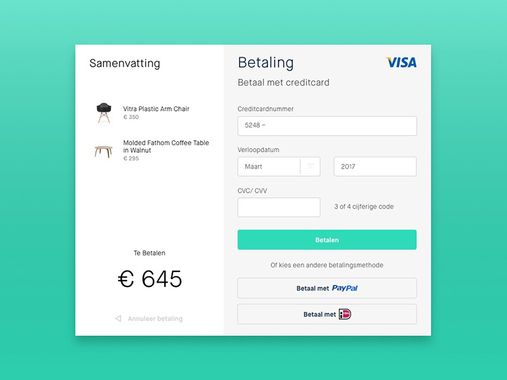_form_: (47, 1, 463, 380)
button: (234, 302, 419, 328), (236, 228, 417, 252), (235, 277, 419, 298)
field: (235, 115, 419, 137), (234, 195, 324, 218), (333, 155, 419, 179), (235, 156, 322, 178)
